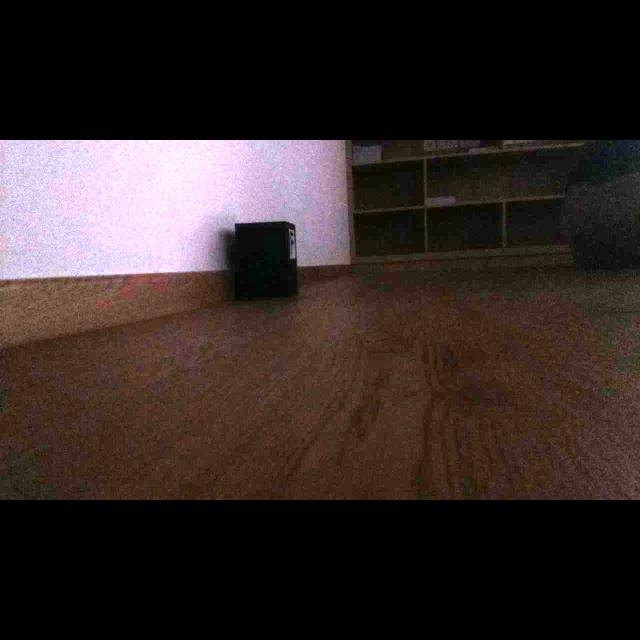F: (290, 232, 294, 254)
